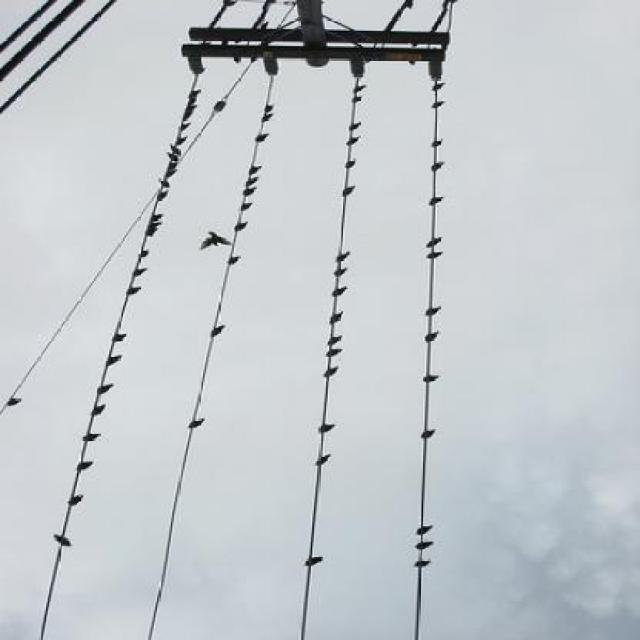pole: (171, 0, 480, 91)
